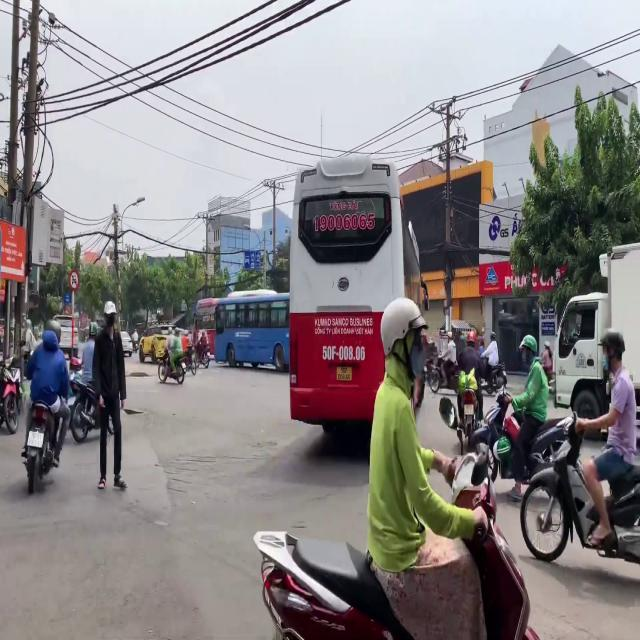bien_vang: (336, 366, 352, 381)
